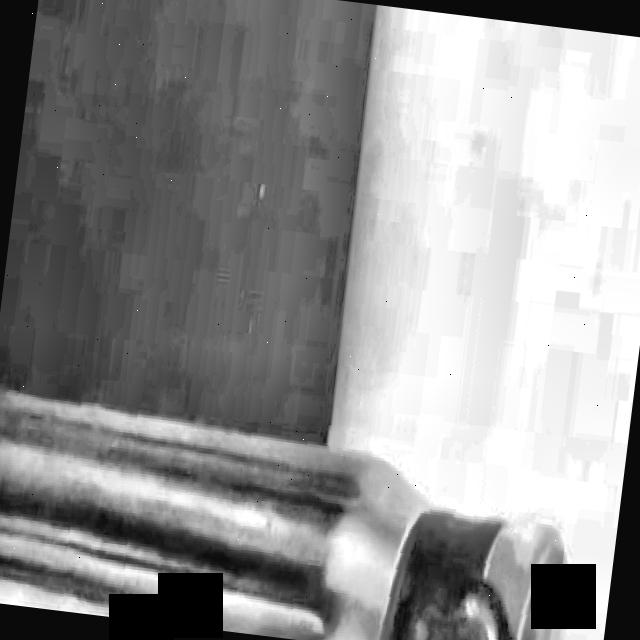bottle: (0, 391, 559, 640)
